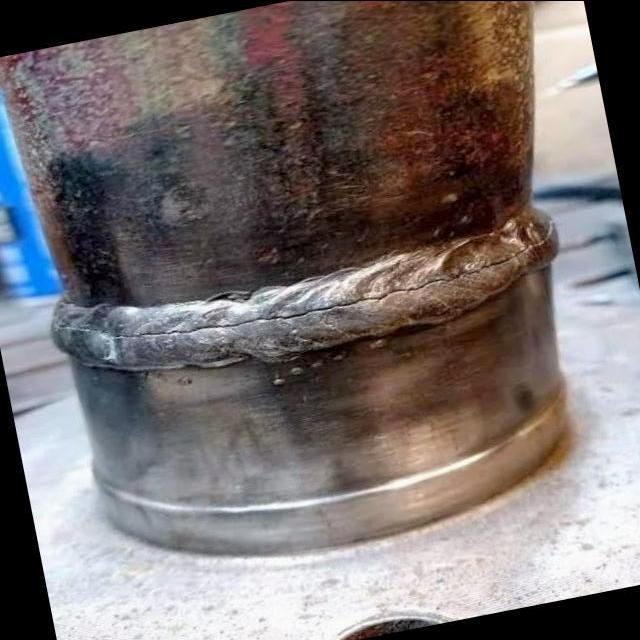defect: (53, 218, 557, 341)
